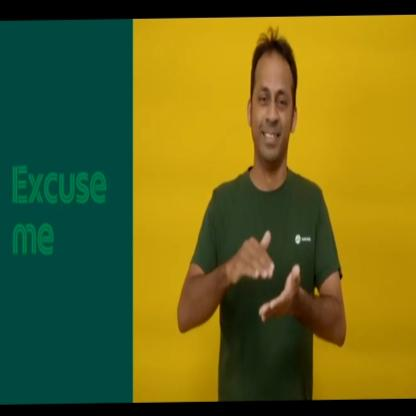ExcuseMe: (176, 38, 346, 398)
